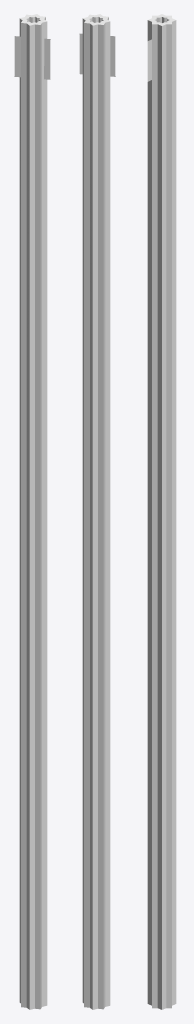
File: PlinthMoment_Animations_Redmoon.fbx
3 renders of one model, left to right at view 1: azimuth 30°, elevation 25°; view 2: azimuth 210°, elevation 25°; view 3: azimuth 270°, elevation 25°, orthographic.
Parts seen in each view (by area): view 1: starPlinthGlow, glow; view 2: starPlinthGlow, glow; view 3: starPlinthGlow, glow.
Part boxes in pixels (box(x1,y1,x2,y2)): starPlinthGlow: box(19, 14, 47, 1009); glow: box(14, 36, 50, 79); starPlinthGlow: box(82, 14, 110, 1009); glow: box(79, 33, 115, 76); starPlinthGlow: box(147, 14, 176, 1009); glow: box(147, 39, 151, 81).
Bounding box in the file's own units: 1.21 × 42.82 × 1.13.
Materials: 3 (2 with a texture image).
